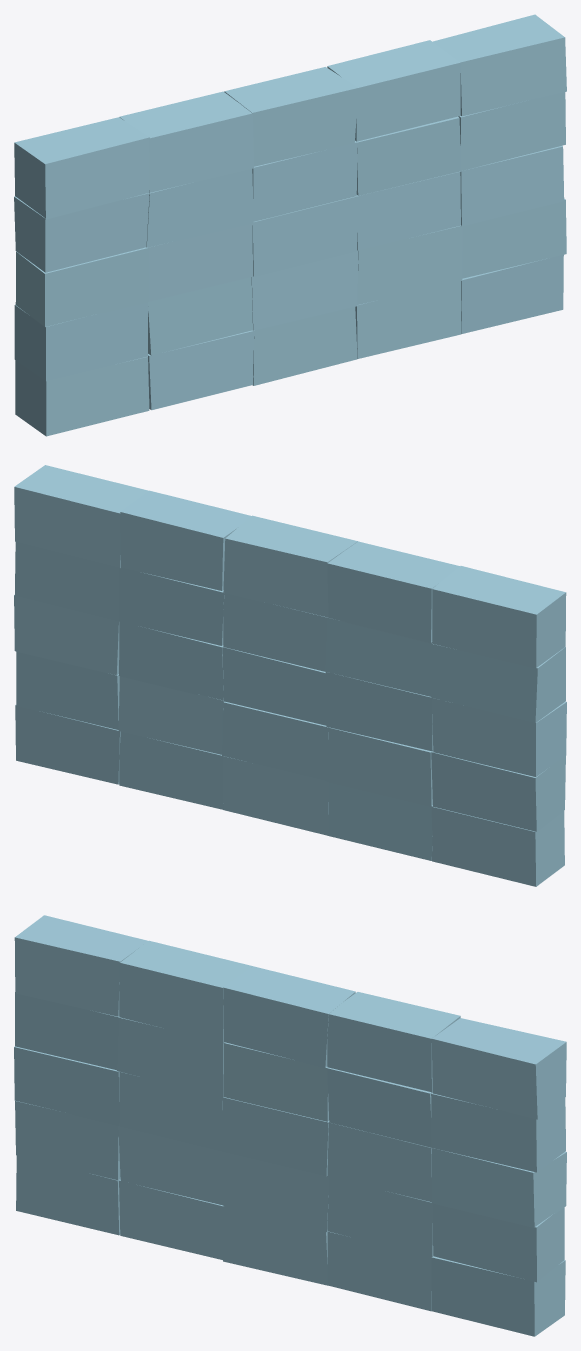
The model's file is IceWall.fbx.
3 views of the same model, one above another, from view 1: azimuth 30°, elevation 25°; view 2: azimuth 150°, elevation 25°; view 3: azimuth 330°, elevation 25° (orthographic).
Visible parts, largest first — view 1: IceWall; view 2: IceWall; view 3: IceWall.
Part boxes in pixels (<box>): IceWall: <box>14,14,566,436</box>; IceWall: <box>14,465,566,886</box>; IceWall: <box>14,915,566,1336</box>.
Size of the model in its own units: 20.14 by 2.09 by 10.07.
